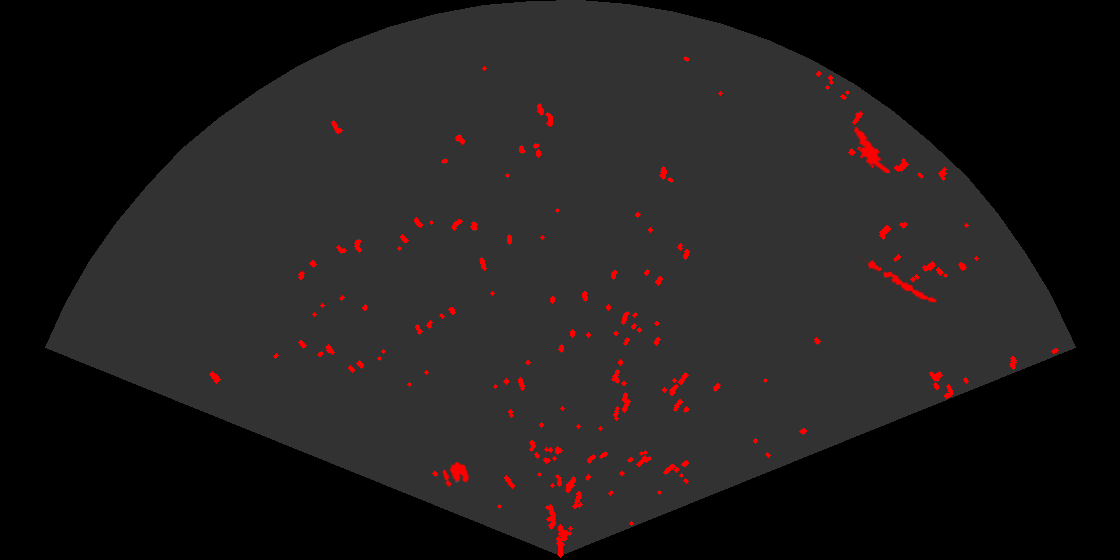ball: (441, 460, 471, 488)
chain: (858, 254, 939, 304)
frogman: (848, 124, 890, 173)
